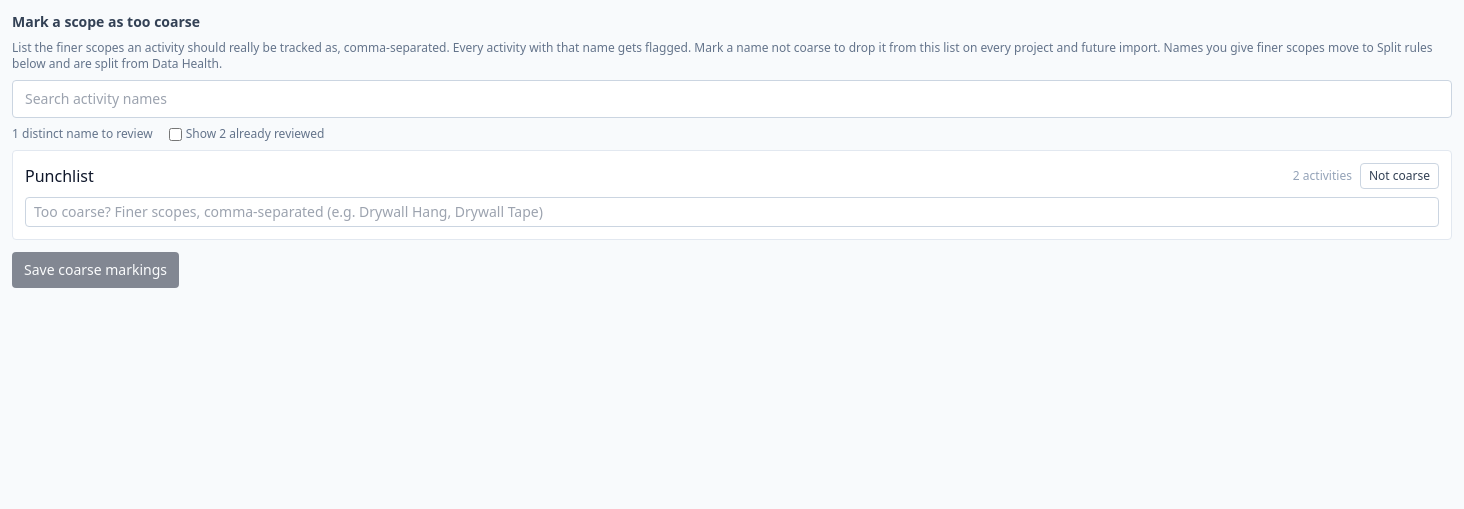
Test case: CoarsePanel not-coarse marks › hides decided names — not coarse or already given a rule — until asked
Expected: the text "Final Clean" is not shown
Expected: the text "MEP OH Rough-In" is not shown
Click the checkbox labelled "Show 2 already reviewed".
click(175, 134)  # box [169,128,182,140]
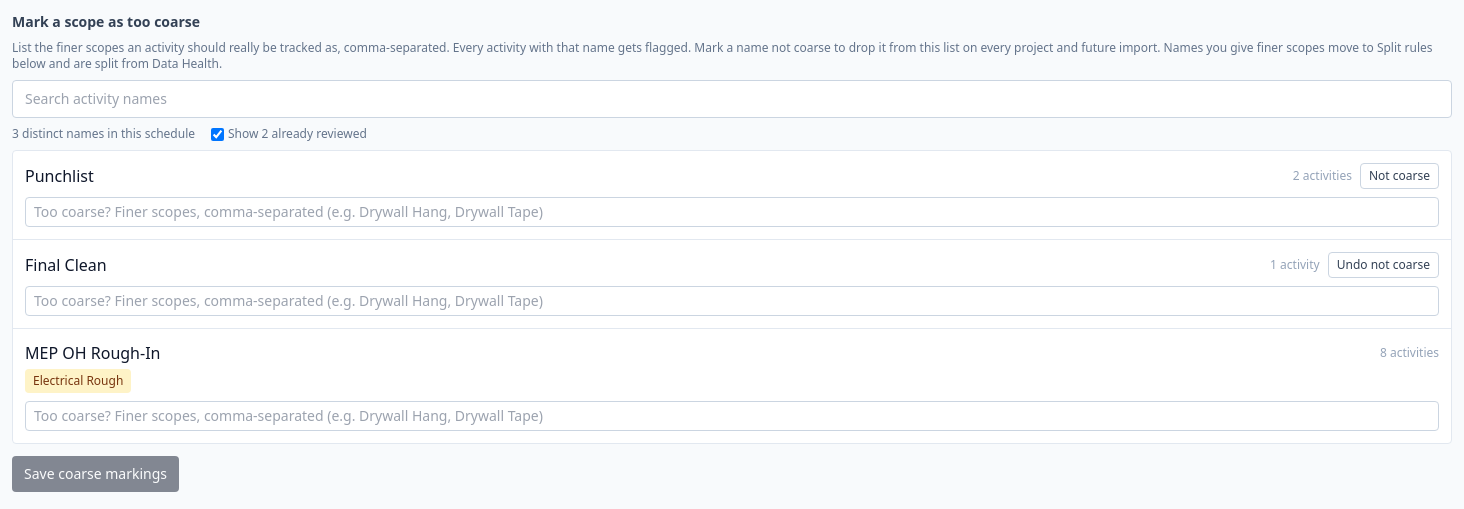
Expected: the text "Final Clean" is shown, [25,253,107,277]
Expected: the text "MEP OH Rough-In" is shown, [25,341,160,365]
Expected: the button "Undo not coarse" is shown, [1328,252,1439,278]
